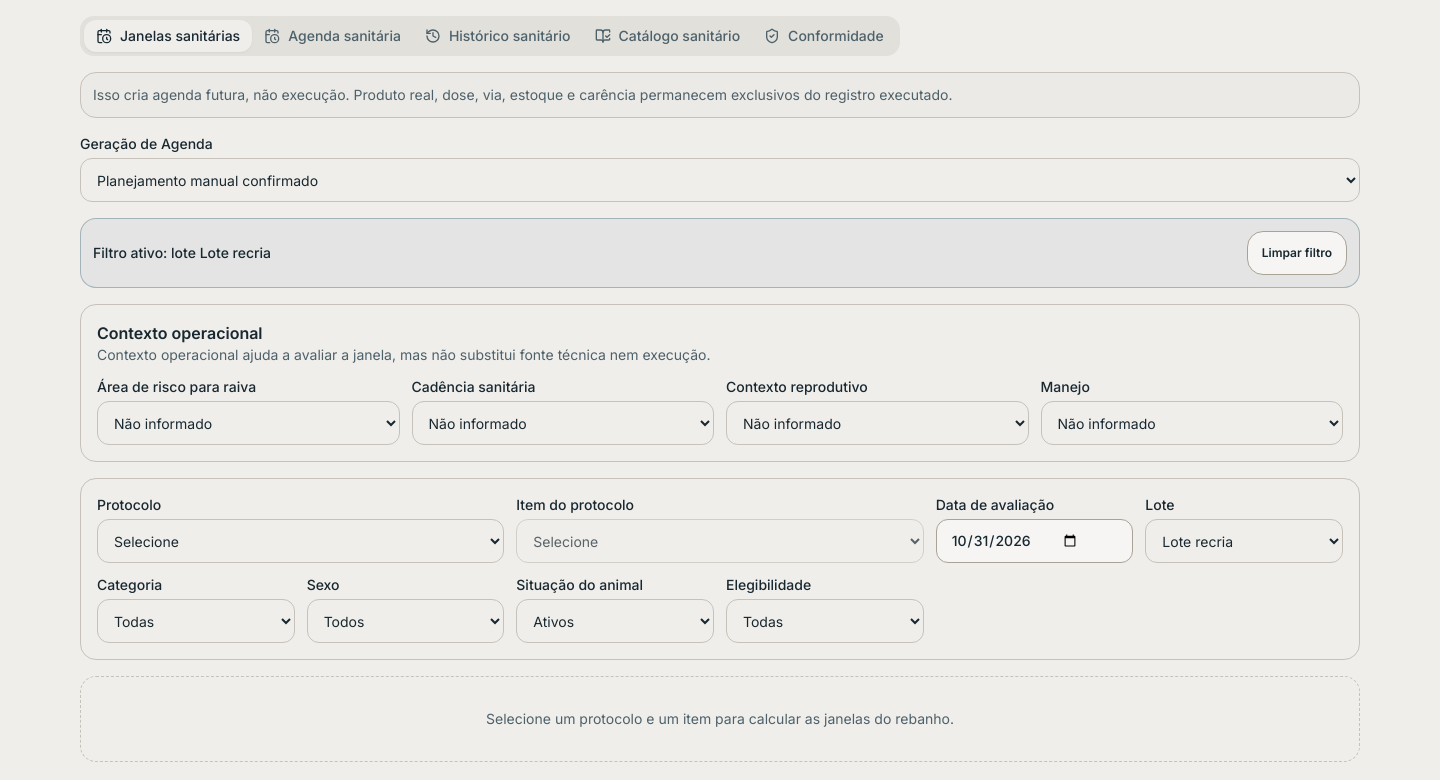
Test: Central Sanitária › abre Janelas sanitárias com filtro inicial por lote e permite limpar
(page scrolled)
Expected: the text "Filtro ativo: lote Lote recria" is shown, [93,243,271,263]
Select "Brucelose B19" in the dropdown named "Selecionar protocolo": (301, 541) [97,519,504,563]
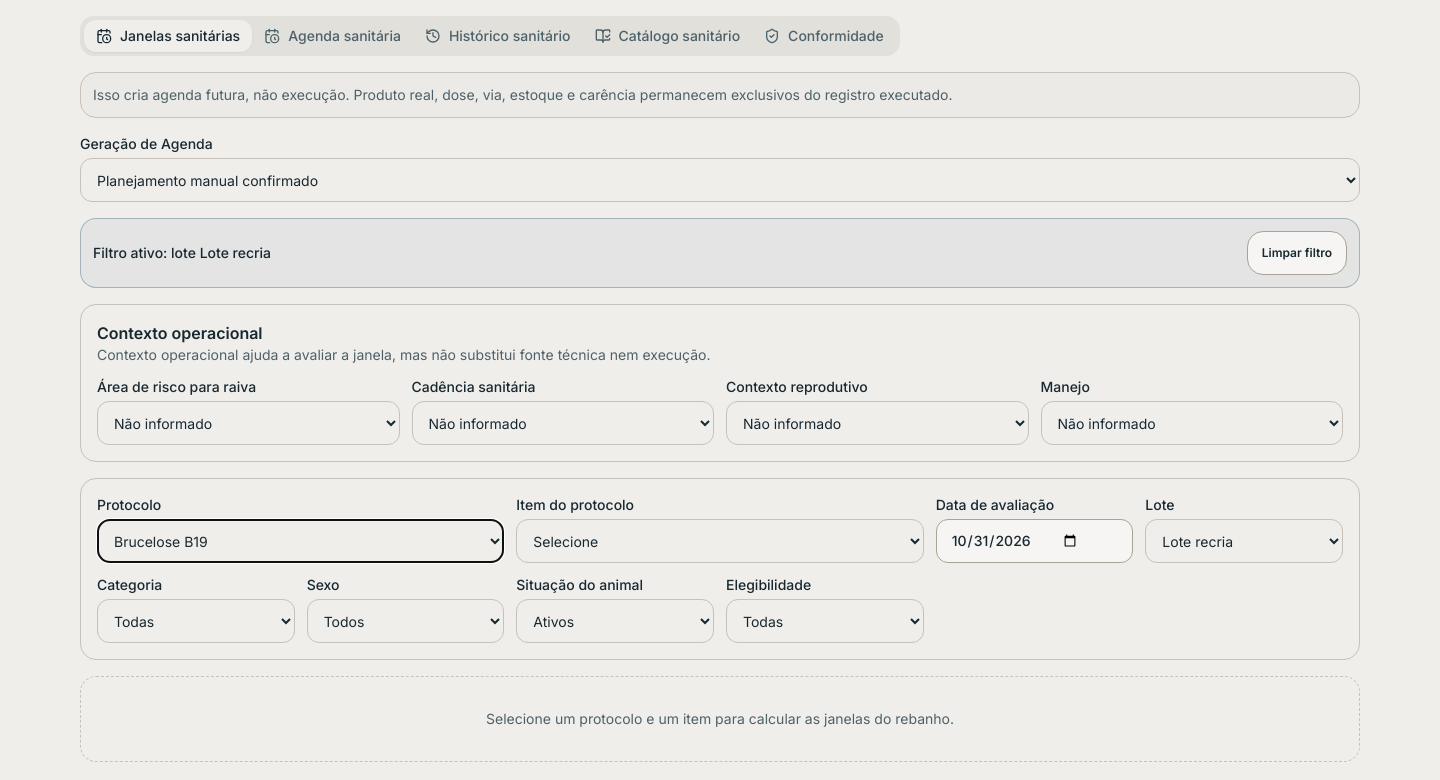
Select "B19 — fêmeas de 3 a 8 meses" in the dropdown named "Selecionar item do protocolo": (720, 541) [516,519,924,563]
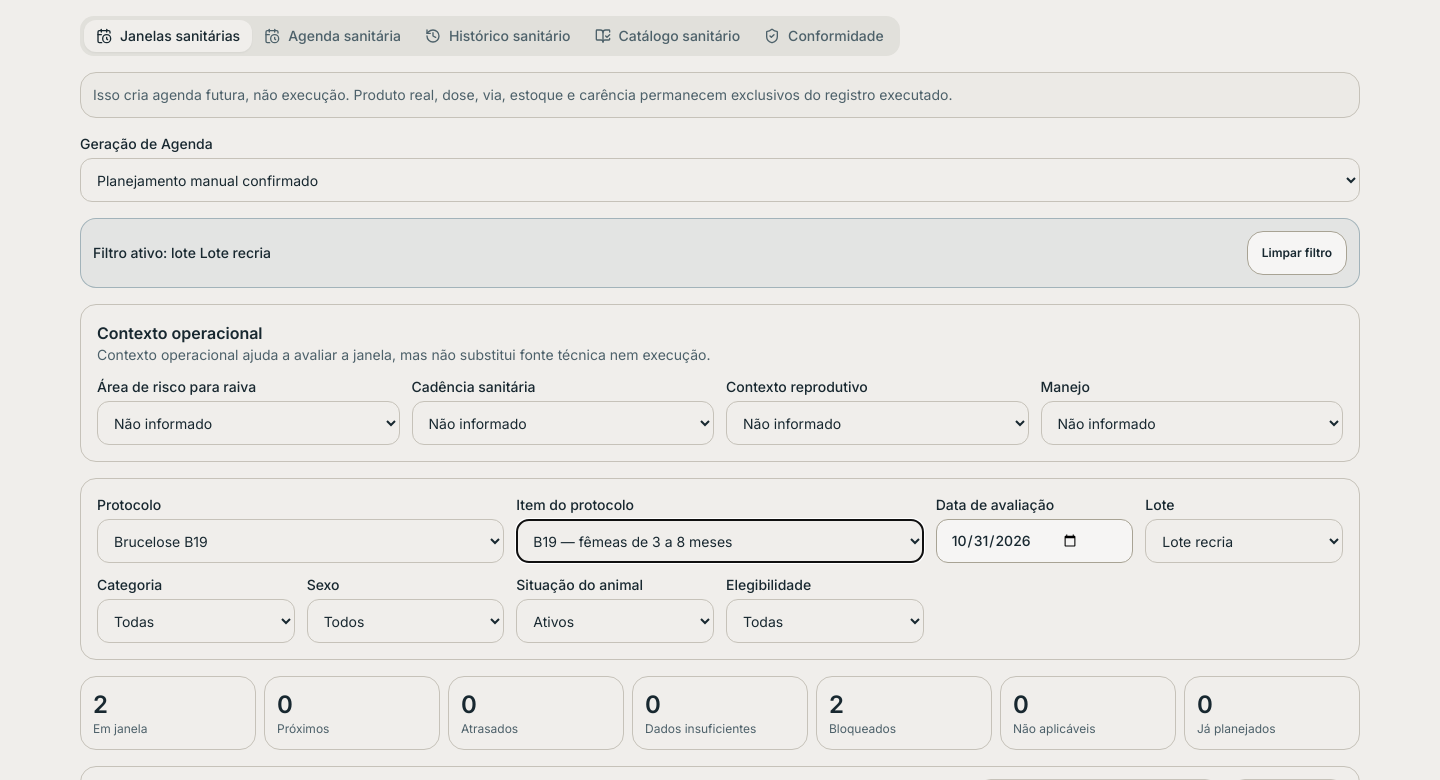
Expected: the text "Vaca 30" is not shown
Click the button "Limpar filtro": click(1297, 253) [1247,231,1347,275]
(page scrolled)
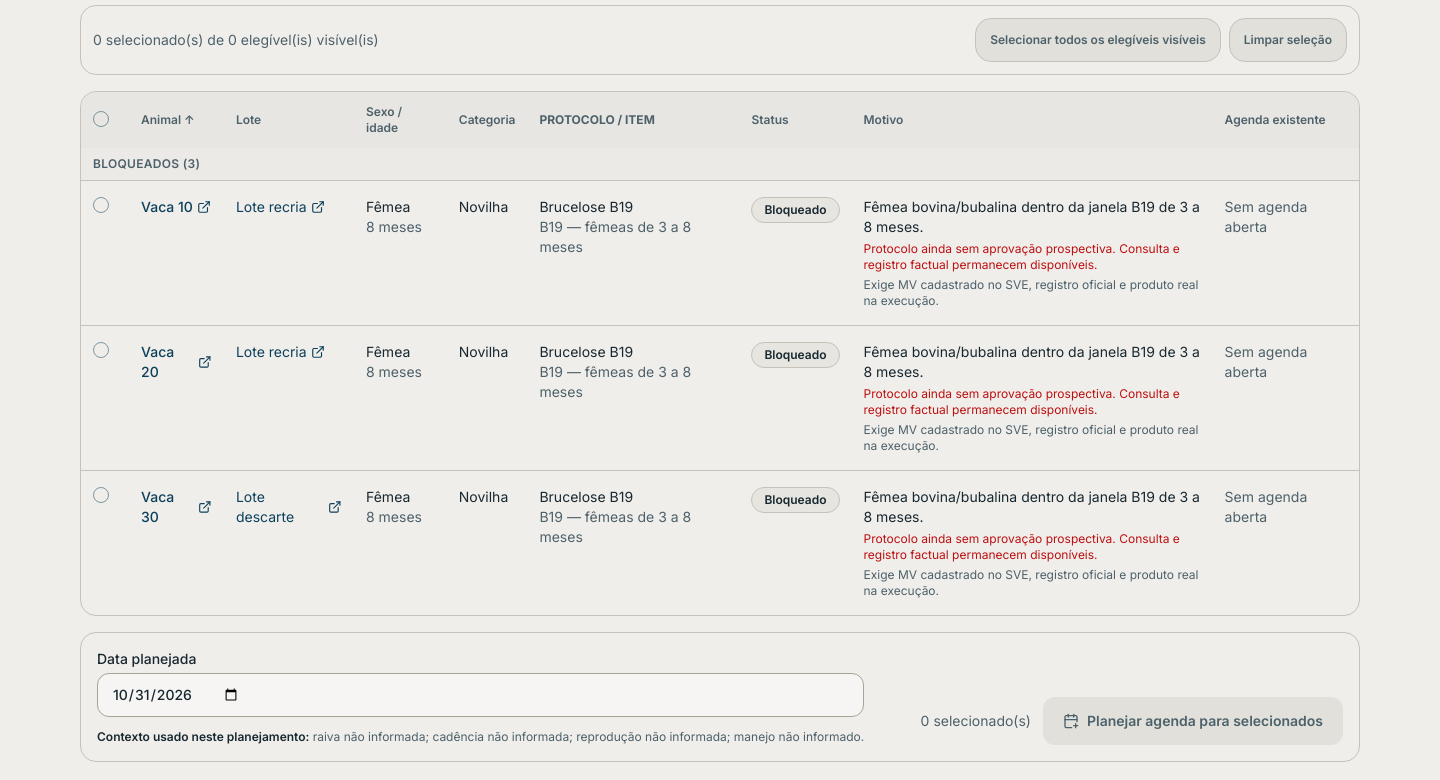
Expected: the link "Vaca 10" is shown, [141,197,211,217]
Expected: the link "Vaca 20" is shown, [141,342,212,382]
Expected: the text "Filtro ativo:" is gone
